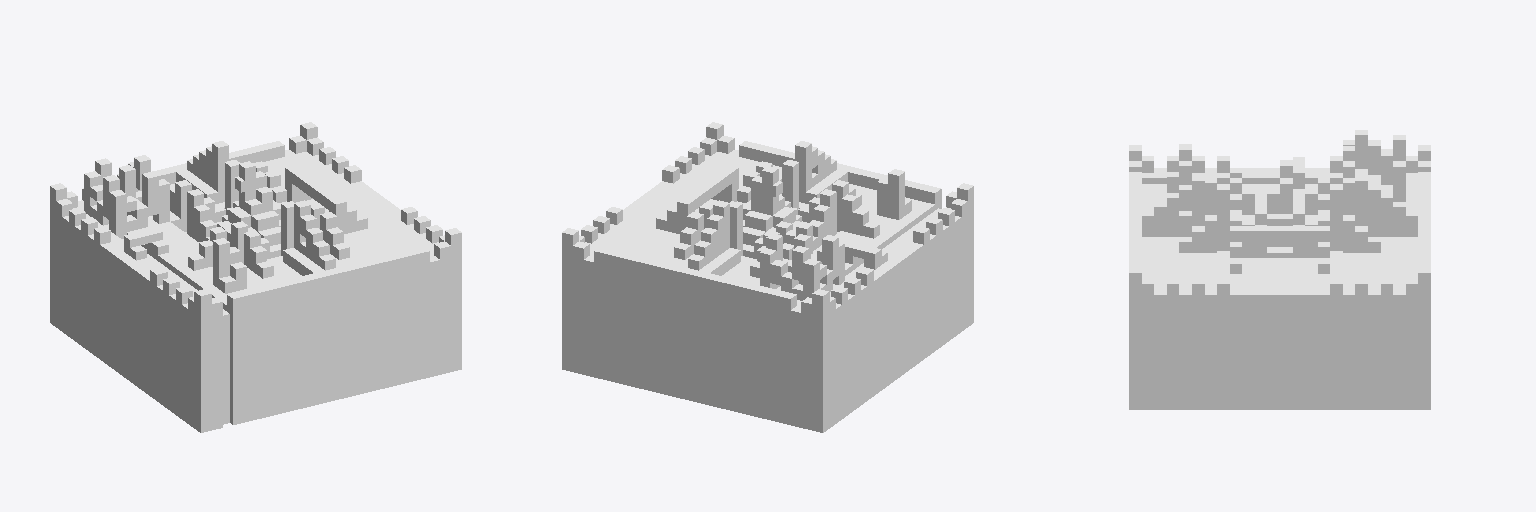
The model's file is craft.obj.
3 renders of one model, left to right at view 1: azimuth 30°, elevation 25°; view 2: azimuth 150°, elevation 25°; view 3: azimuth 270°, elevation 25°, orthographic.
Parts seen in each view (by area): view 1: mesh01; view 2: mesh01; view 3: mesh01.
Part boxes in pixels (x1,y1,x2,y2): mesh01: (50, 122, 461, 432); mesh01: (562, 122, 973, 432); mesh01: (1129, 130, 1430, 409).
Size of the model in its own units: 107 by 70.57 by 107.